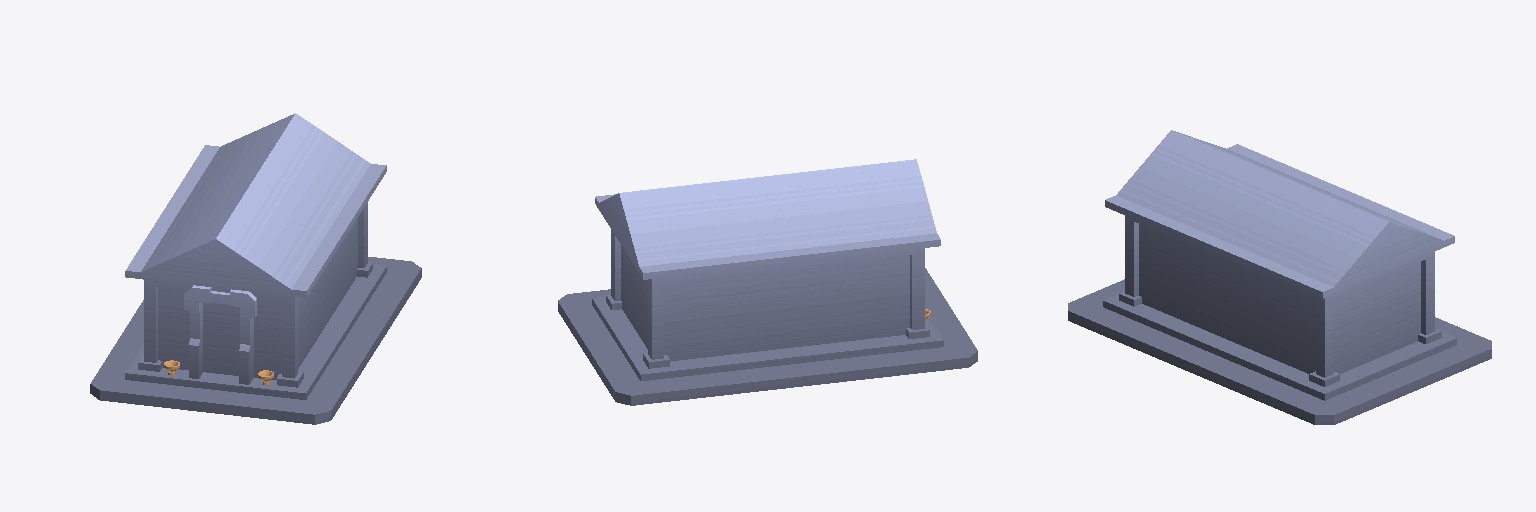
3 views of the same model, side by side, from view 1: azimuth 30°, elevation 25°; view 2: azimuth 150°, elevation 25°; view 3: azimuth 270°, elevation 25° (orthographic).
Visible parts, largest first — view 1: Crypt_2; view 2: Crypt_2; view 3: Crypt_2.
Boxes of the visible parts, x1=… form: Crypt_2: x1=90, y1=113, x2=421, y2=424; Crypt_2: x1=558, y1=159, x2=977, y2=405; Crypt_2: x1=1068, y1=130, x2=1491, y2=424.
Bounding box in the file's own units: 4.06 × 1.69 × 4.06.
3 materials, 1 textured.